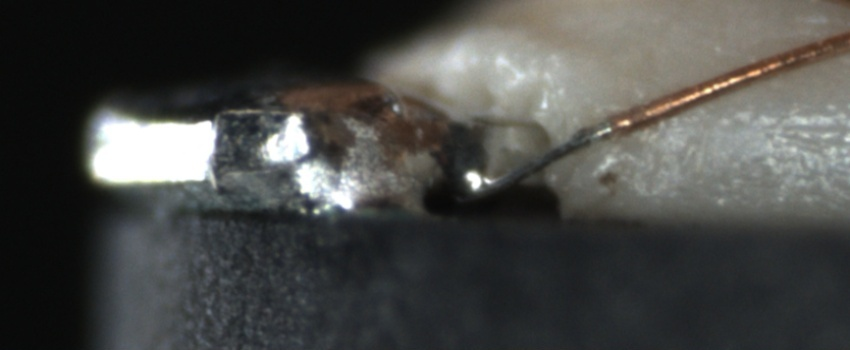DL: (685, 92, 850, 156)
TS: (464, 118, 613, 201)
TTCW: (478, 91, 690, 195)
